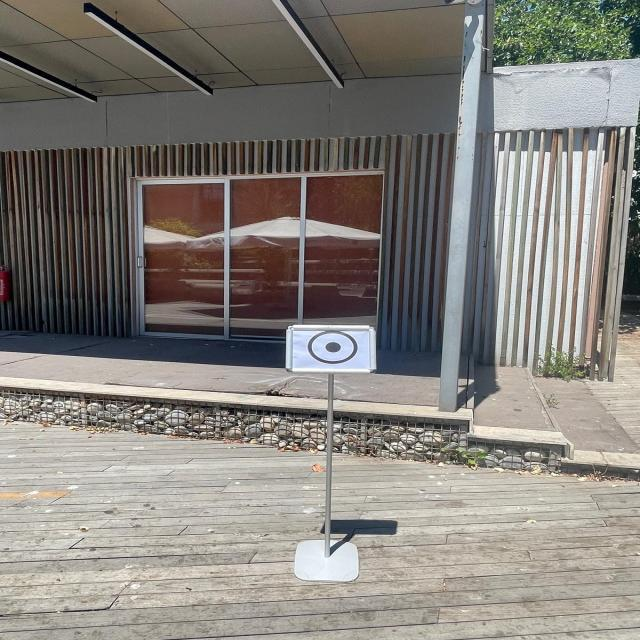Target: (275, 315, 390, 383)
inner: (321, 337, 346, 356)
